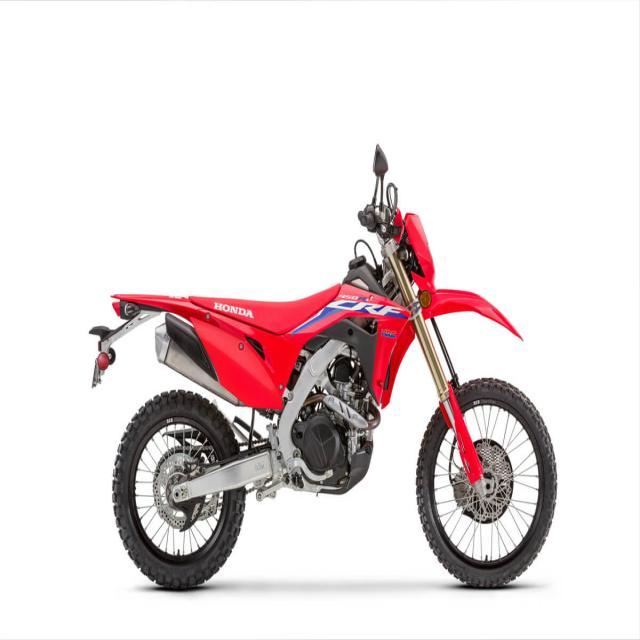Motorcycle: (90, 146, 558, 590)
